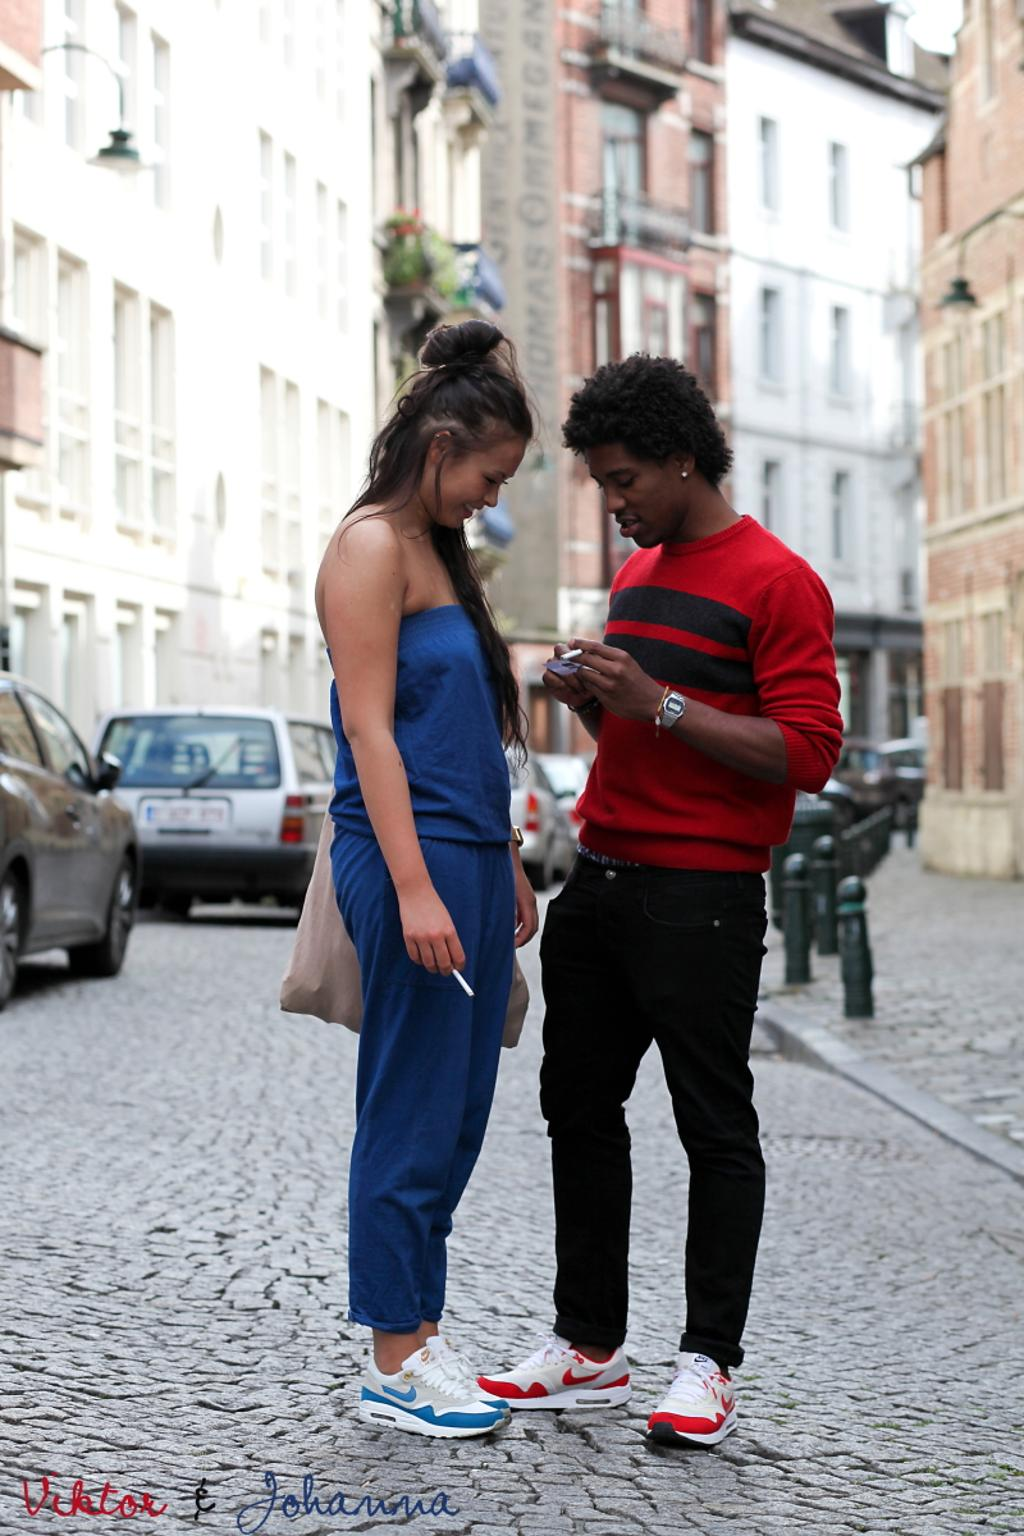face: (592, 435, 676, 546), (441, 432, 525, 528)
